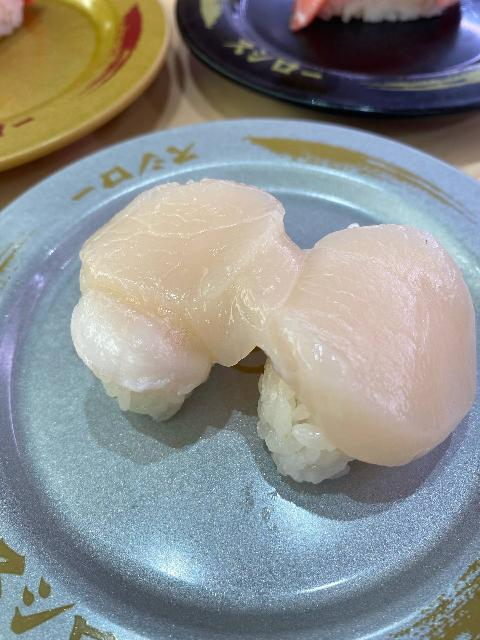janback: (173, 1, 480, 119)
jangold: (0, 0, 177, 163)
janwhite: (10, 160, 480, 640)
